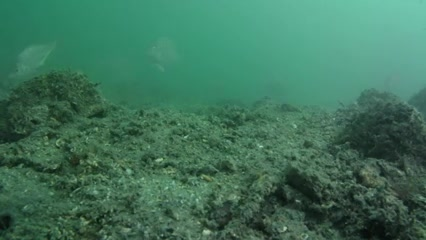smallfish: (4, 35, 62, 87)
